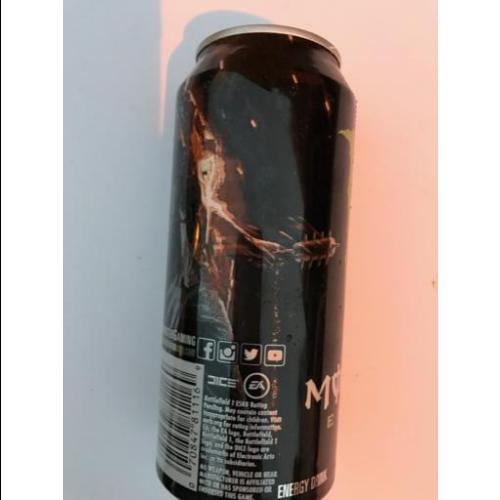metal: (157, 25, 358, 498)
